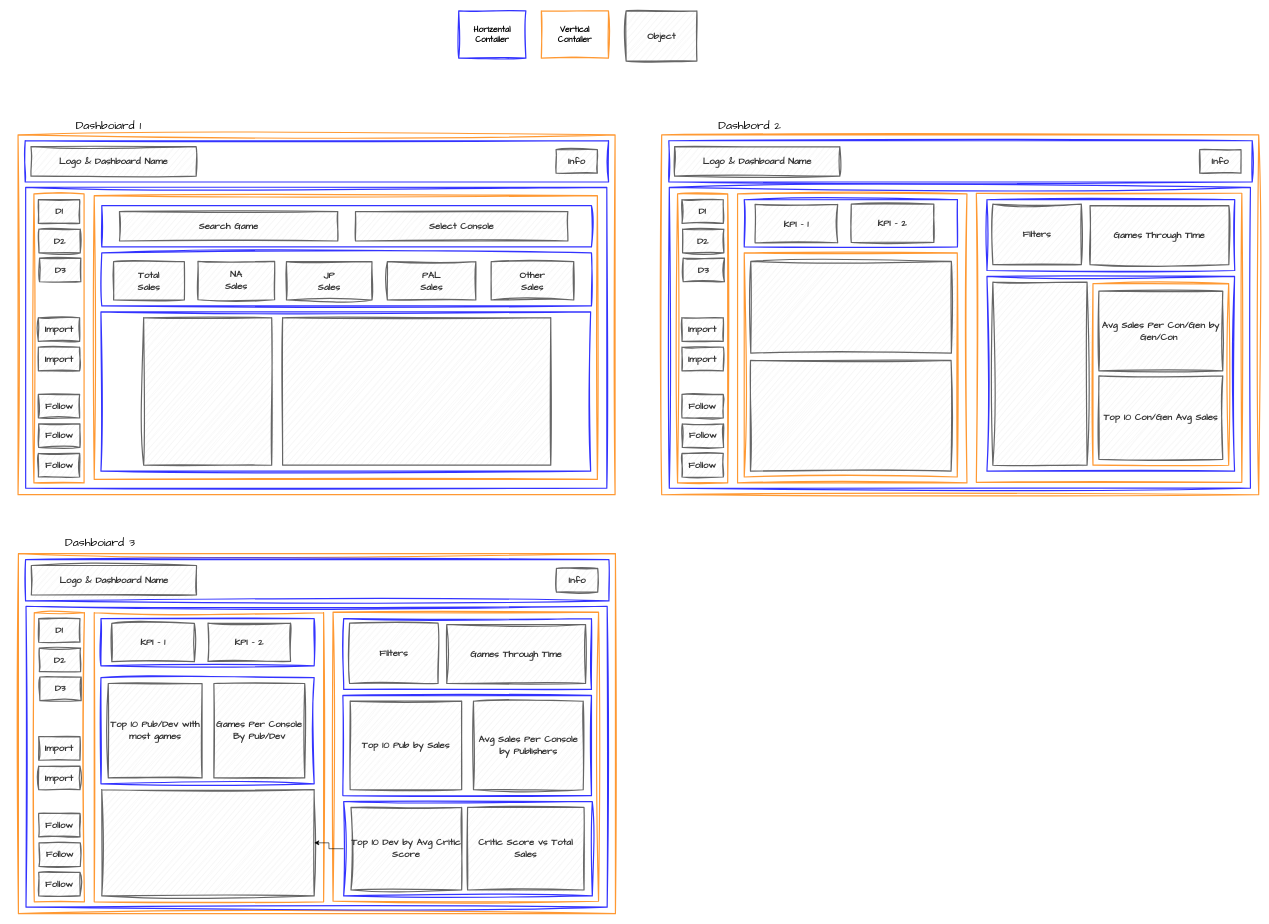
This 1269x924 diagram has some shape labels left out. The shapes that lost their labels are listed below. From the top down, each one's box as (x1, y1, x2, y2) in pixels, then its label:
(750, 260, 952, 353): Top 10 Con/Gen with Most Games
(143, 317, 272, 466): Image
(282, 317, 551, 466): Details
(992, 281, 1087, 466): Top 10 Most Selling Con/Gen
(750, 359, 951, 471): Con/Gen By Gen/Con
(101, 789, 314, 896): Games Per Genre By Pub/Dev
